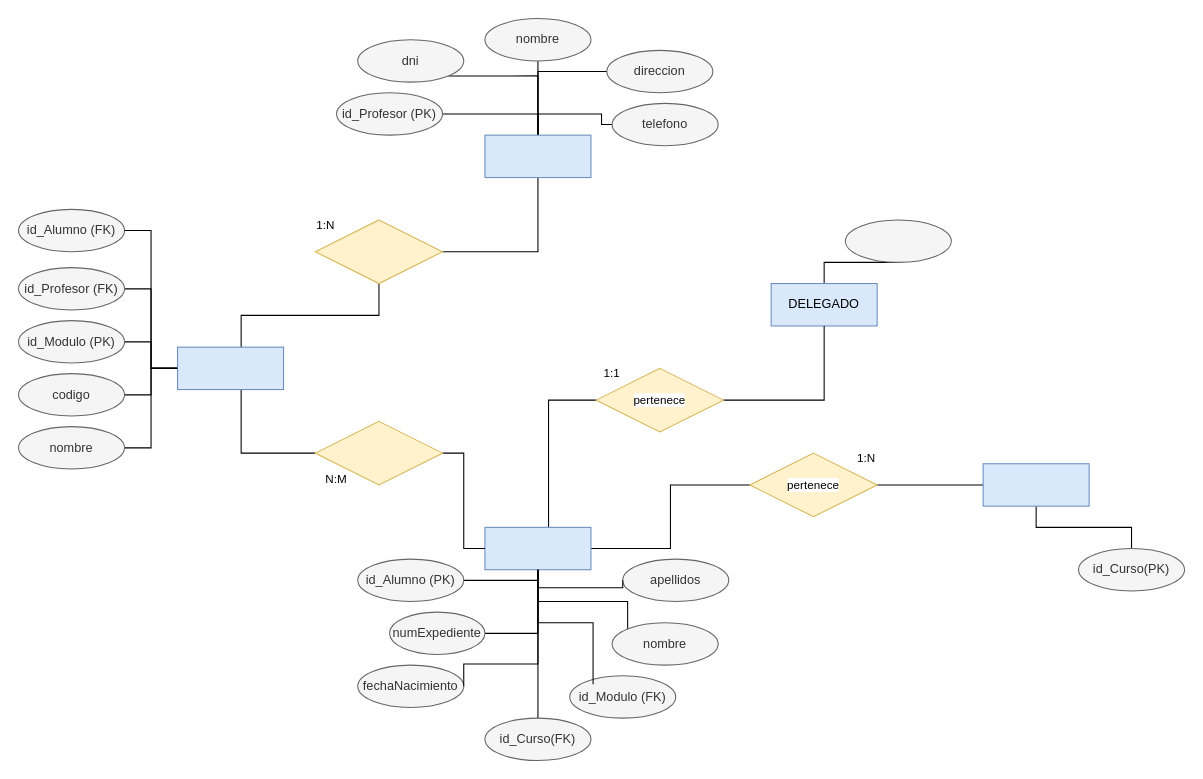
The diagram is 1203 pixels wide and 779 high, and some of its shapes have lost their labels. The shapes that lost their labels are listed below. From the top down, each one's box as (x1, y1, x2, y2) in pixels, then its label:
(484, 134, 591, 178): PROFESOR
(314, 219, 443, 284): imparten
(844, 219, 951, 262): id_Delegado(PK)
(176, 346, 284, 390): MODULO
(314, 420, 443, 485): matriculado
(982, 463, 1089, 506): CURSO
(484, 526, 591, 570): ALUMNO
